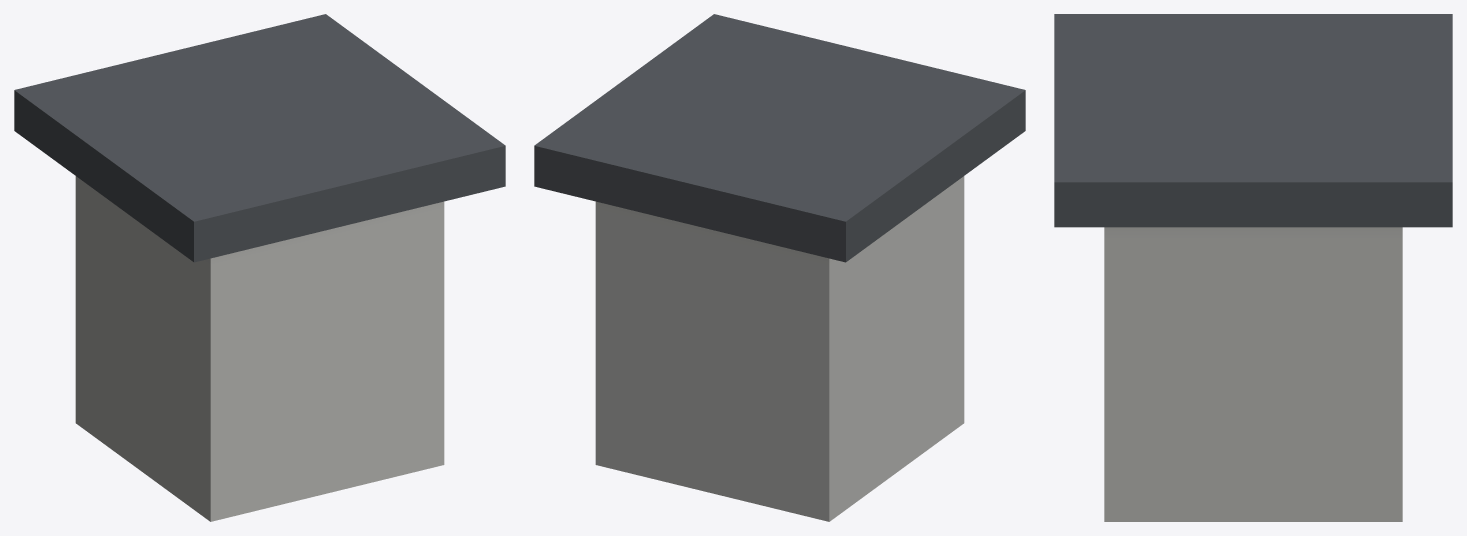
Rendered from c_tower3.glb.
The picture shows the model from 3 angles, left to right: view 1: azimuth 30°, elevation 25°; view 2: azimuth 150°, elevation 25°; view 3: azimuth 270°, elevation 25°; orthographic projection. The views are drawn at different scales.
Visible parts, largest first — view 1: c_tower3_body; view 2: c_tower3_body; view 3: c_tower3_body.
Boxes of the visible parts, x1=… form: c_tower3_body: x1=14, y1=14, x2=505, y2=521; c_tower3_body: x1=534, y1=14, x2=1025, y2=521; c_tower3_body: x1=1054, y1=14, x2=1452, y2=521.
Bounding box in the file's own units: 0.5 × 0.5 × 0.5.
Materials: 1 (1 with a texture image).
